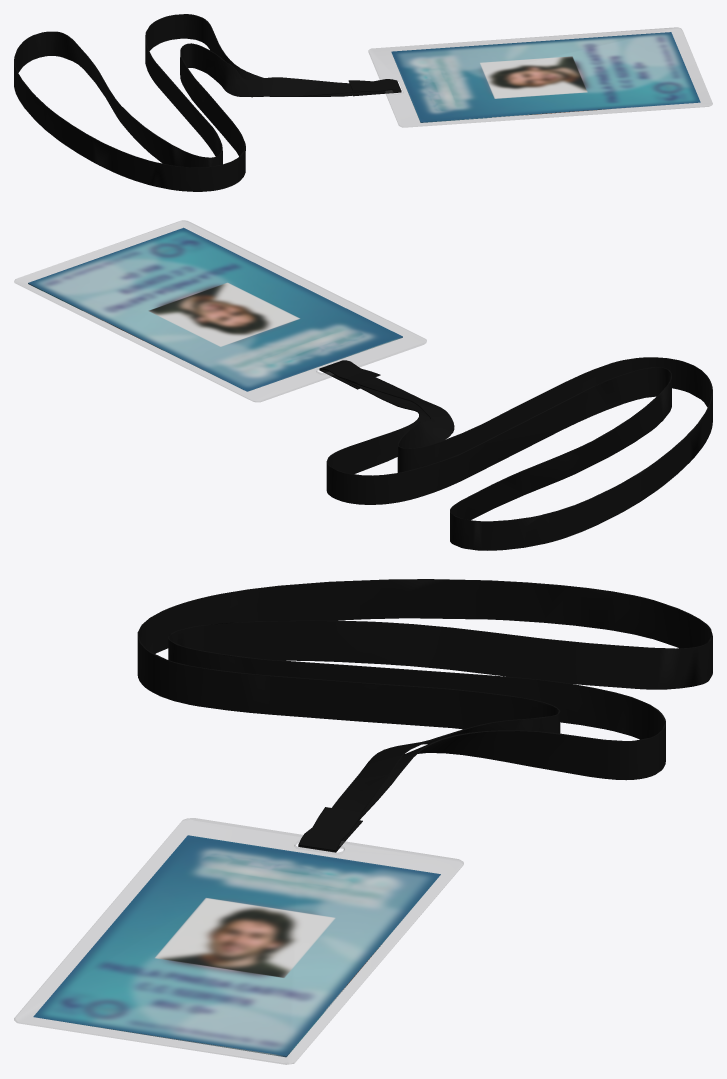
The model's file is Worker license.FBX.
3 renders of one model, top to bottom at view 1: azimuth 30°, elevation 25°; view 2: azimuth 150°, elevation 25°; view 3: azimuth 270°, elevation 25°, orthographic. The views are drawn at different scales.
Parts seen in each view (by area): view 1: worker license; view 2: worker license; view 3: worker license.
Boxes of the visible parts, <box> form: worker license: <box>14,14,712,191</box>; worker license: <box>14,220,712,550</box>; worker license: <box>14,579,712,1064</box>.
Size of the model in its own units: 260 by 10.45 by 171.
Materials: 3 (1 with a texture image).
